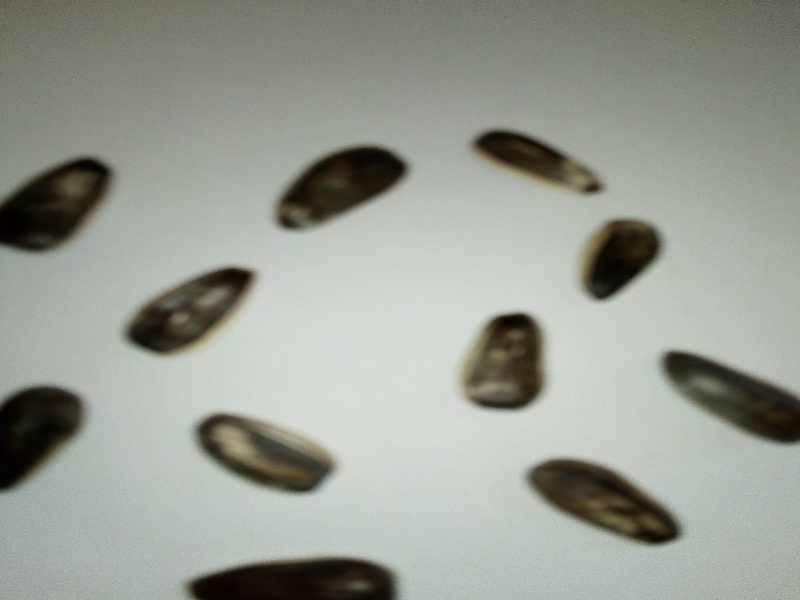girasol: (513, 450, 693, 555), (186, 407, 348, 501), (272, 135, 412, 241), (122, 261, 258, 359), (455, 305, 552, 415)
